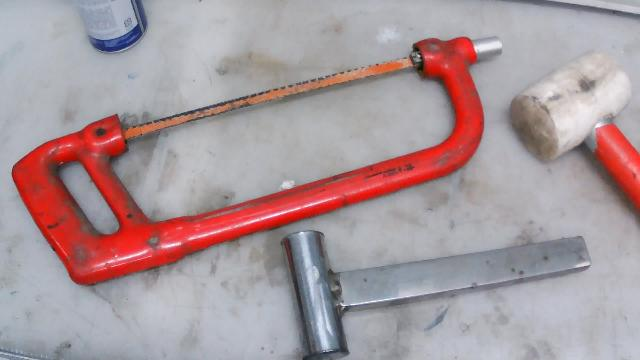gergaji_besi: (5, 3, 522, 307)
